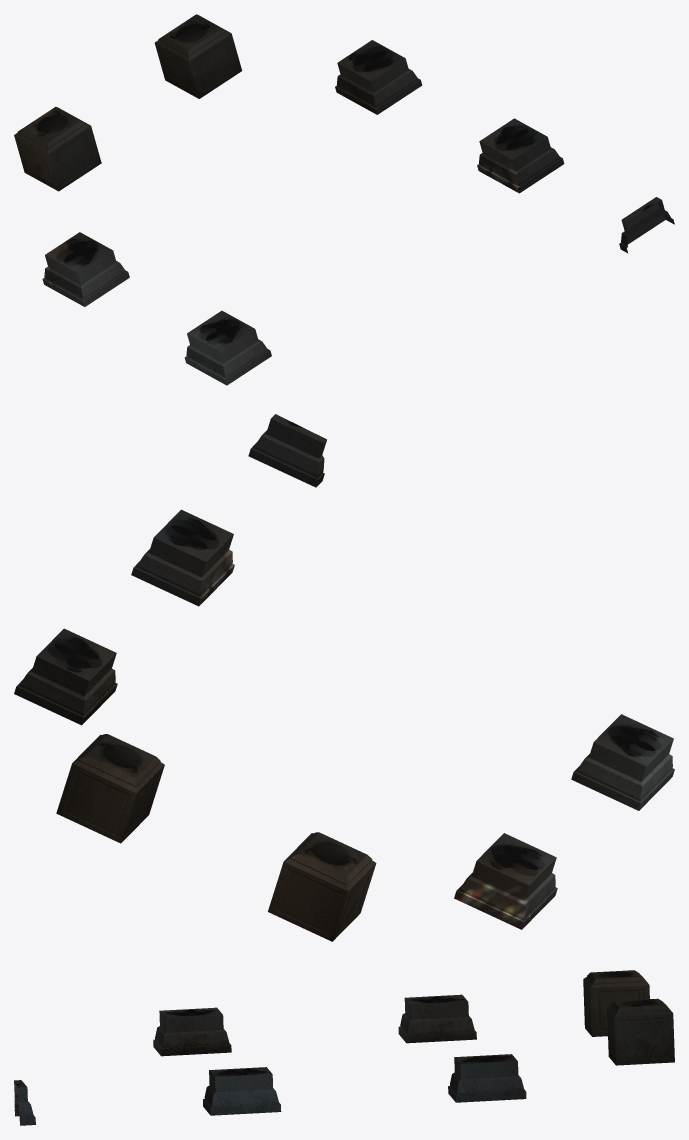
File: PillarBase.obj
The picture shows the model from 3 angles, top to bottom: view 1: azimuth 30°, elevation 25°; view 2: azimuth 150°, elevation 25°; view 3: azimuth 270°, elevation 25°; orthographic projection. The views are drawn at different scales.
Parts seen in each view (by area): view 1: Cylinder.002_0; view 2: Cylinder.002_0; view 3: Cylinder.002_0.
Part boxes in pixels (x1,y1,x2,y2): Cylinder.002_0: (14, 14, 674, 385); Cylinder.002_0: (14, 414, 674, 941); Cylinder.002_0: (14, 970, 674, 1125).
Bounding box in the file's own units: 14.38 × 4.67 × 18.56.
